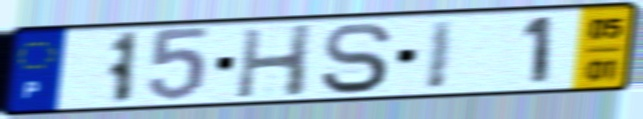1: (106, 28, 144, 107), (518, 13, 558, 88)
5: (145, 24, 212, 106)
H: (232, 21, 318, 100)
I: (422, 17, 460, 93)
S: (316, 20, 397, 96)
